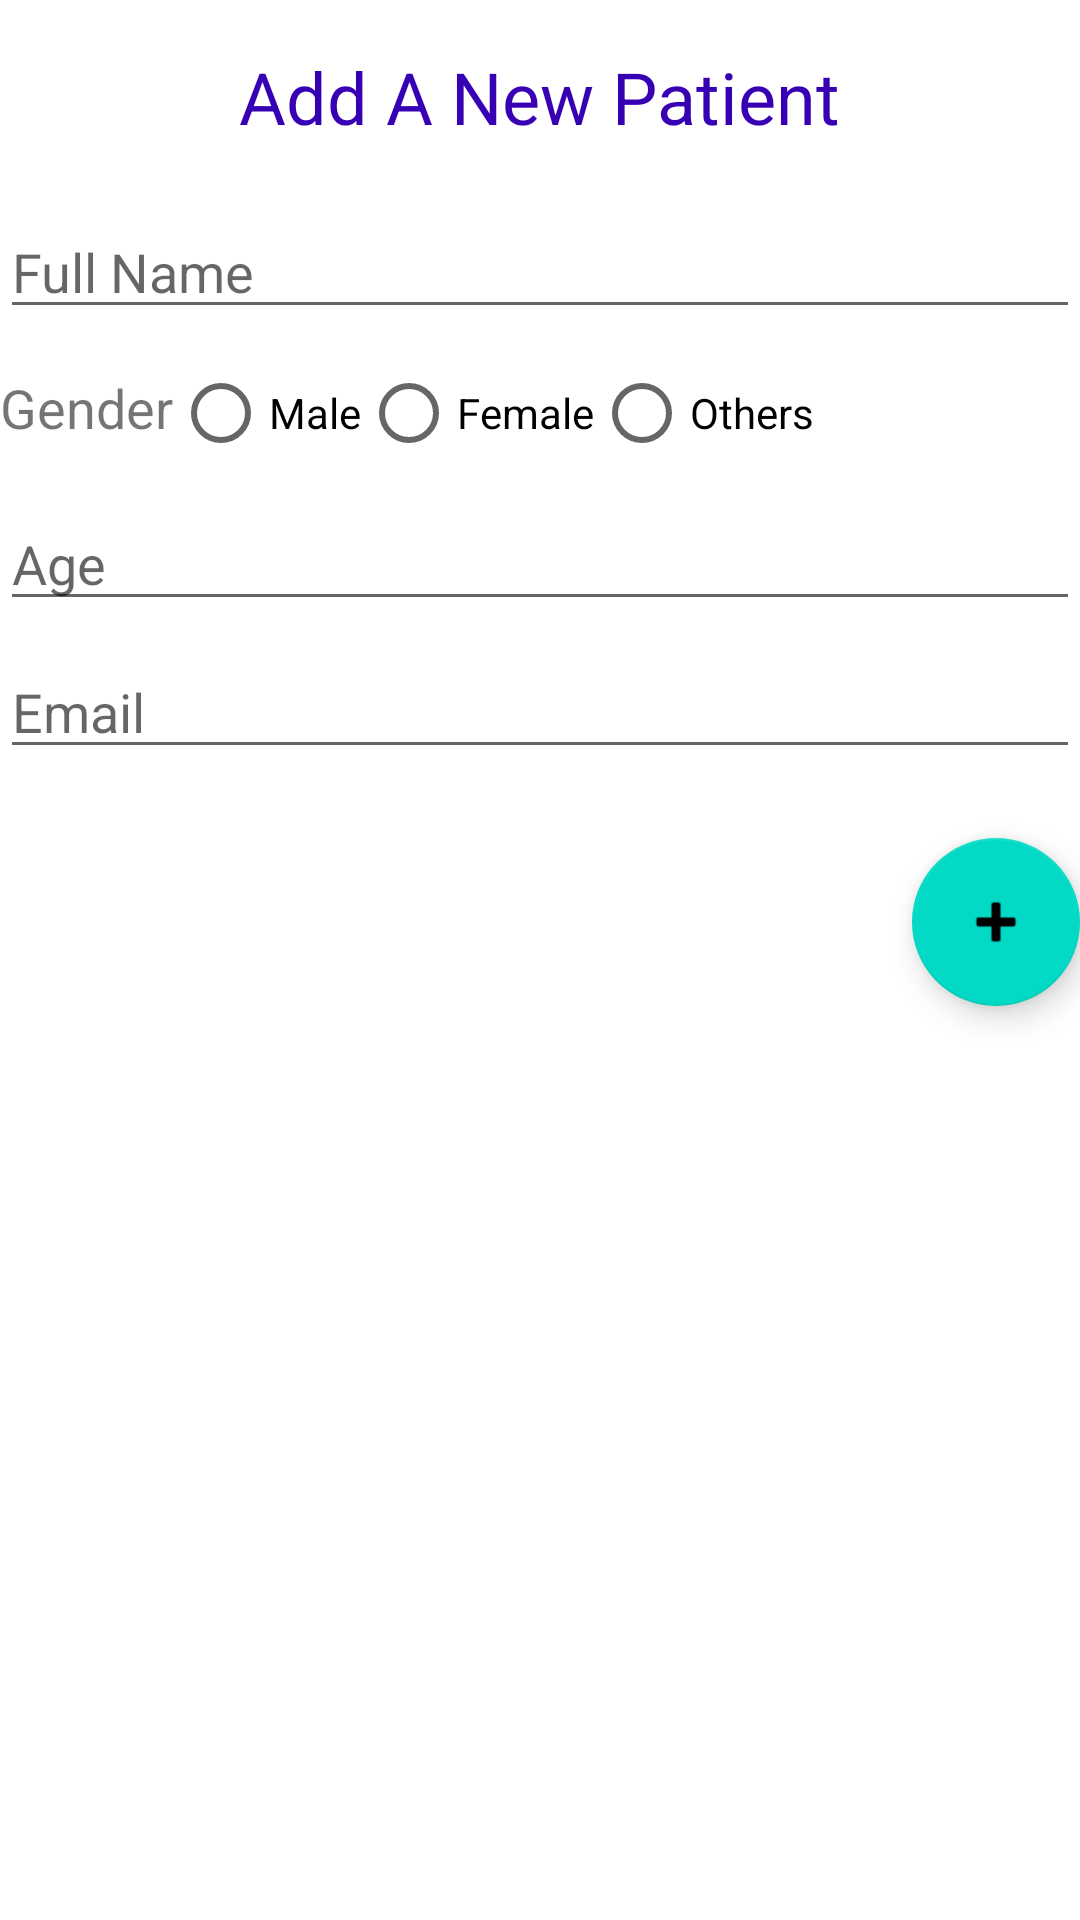

Where icons sit on this 1080*1920 app screen, as (x1, y1, x2, y2):
add: (912, 838, 1080, 1006)
